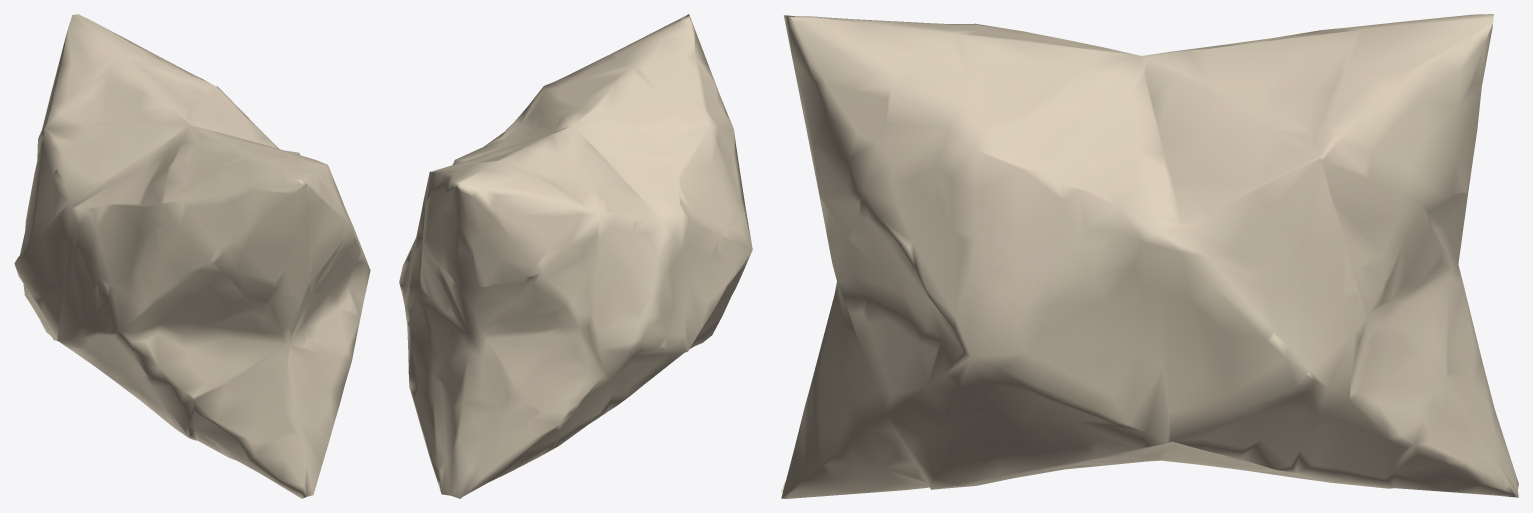
The model's file is faceted+pillow+3d+model (1).glb.
3 views of the same model, side by side, from view 1: azimuth 30°, elevation 25°; view 2: azimuth 150°, elevation 25°; view 3: azimuth 270°, elevation 25° (orthographic). The views are drawn at different scales.
Visible parts, largest first — view 1: tripo_node_06ec5ee8-2b60-4867-a91a-408eac69b342; view 2: tripo_node_06ec5ee8-2b60-4867-a91a-408eac69b342; view 3: tripo_node_06ec5ee8-2b60-4867-a91a-408eac69b342.
Part boxes in pixels (x1=…): tripo_node_06ec5ee8-2b60-4867-a91a-408eac69b342: x1=14, y1=14, x2=370, y2=498; tripo_node_06ec5ee8-2b60-4867-a91a-408eac69b342: x1=399, y1=14, x2=752, y2=498; tripo_node_06ec5ee8-2b60-4867-a91a-408eac69b342: x1=781, y1=14, x2=1518, y2=498.
Size of the model in its own units: 0.6009 by 0.7183 by 1.
Materials: 1 (1 with a texture image).
